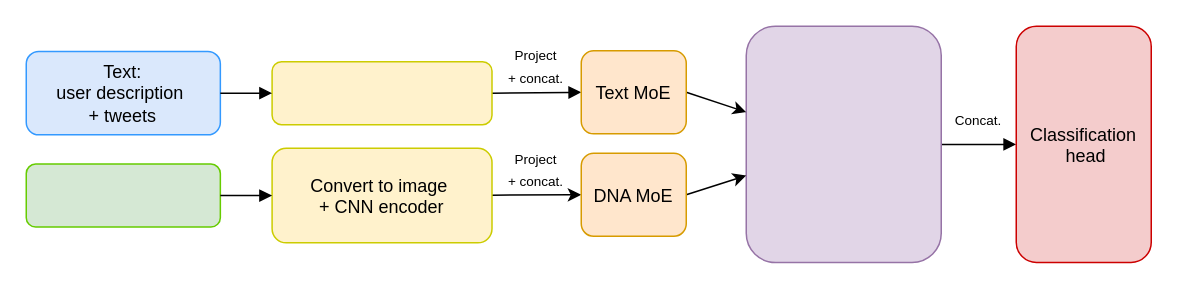
The diagram is 1178 pixels wide and 290 high, and some of its shapes have lost their labels. Here are the shapes that lost their labels. From the top down, the centre of each, then its label:
point (381, 92): Textual Encoder
point (843, 143): SelfAttn + Conv2D(AttnWeights)
point (122, 195): DNA: content + time
